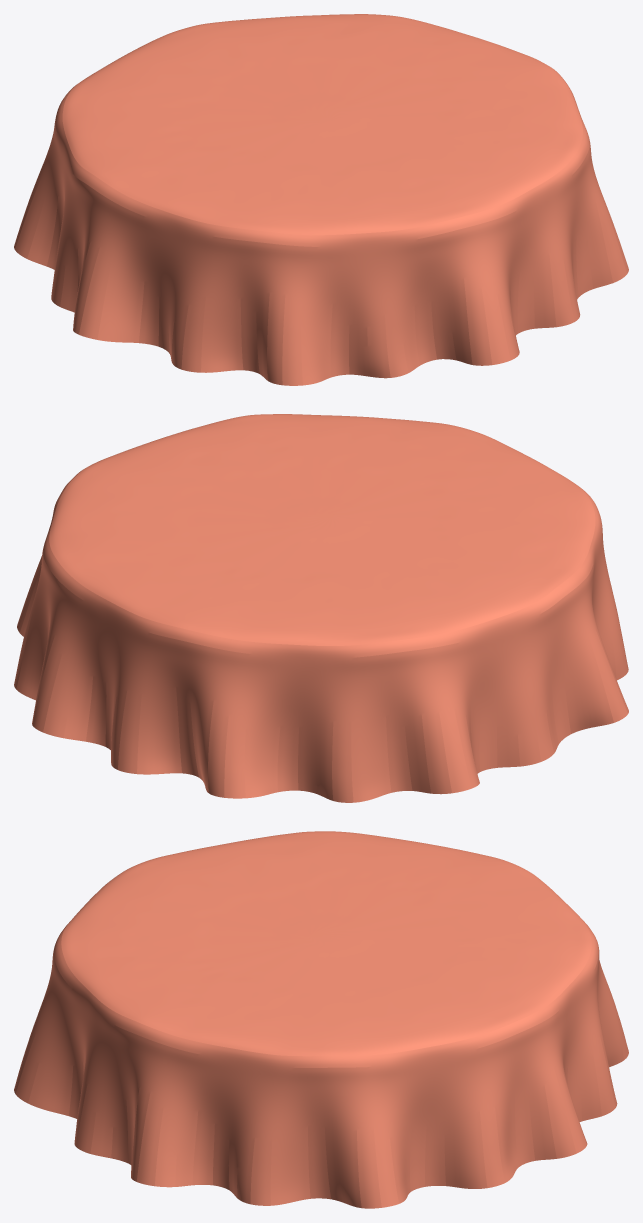
Rendered from couvercle_2.fbx.
3 views of the same model, one above another, from view 1: azimuth 30°, elevation 25°; view 2: azimuth 150°, elevation 25°; view 3: azimuth 270°, elevation 25° (orthographic). The views are drawn at different scales.
Visible parts, largest first — view 1: couvercle; view 2: couvercle; view 3: couvercle.
Part boxes in pixels (x1,y1,x2,y2): couvercle: (14, 14, 628, 385); couvercle: (14, 414, 628, 802); couvercle: (14, 831, 628, 1208).
Bounding box in the file's own units: 599 × 162 × 596.
